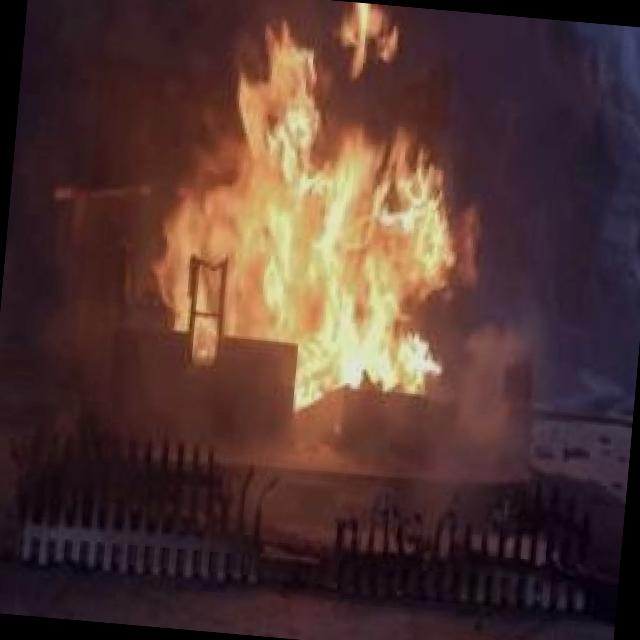fire: (119, 0, 518, 422)
